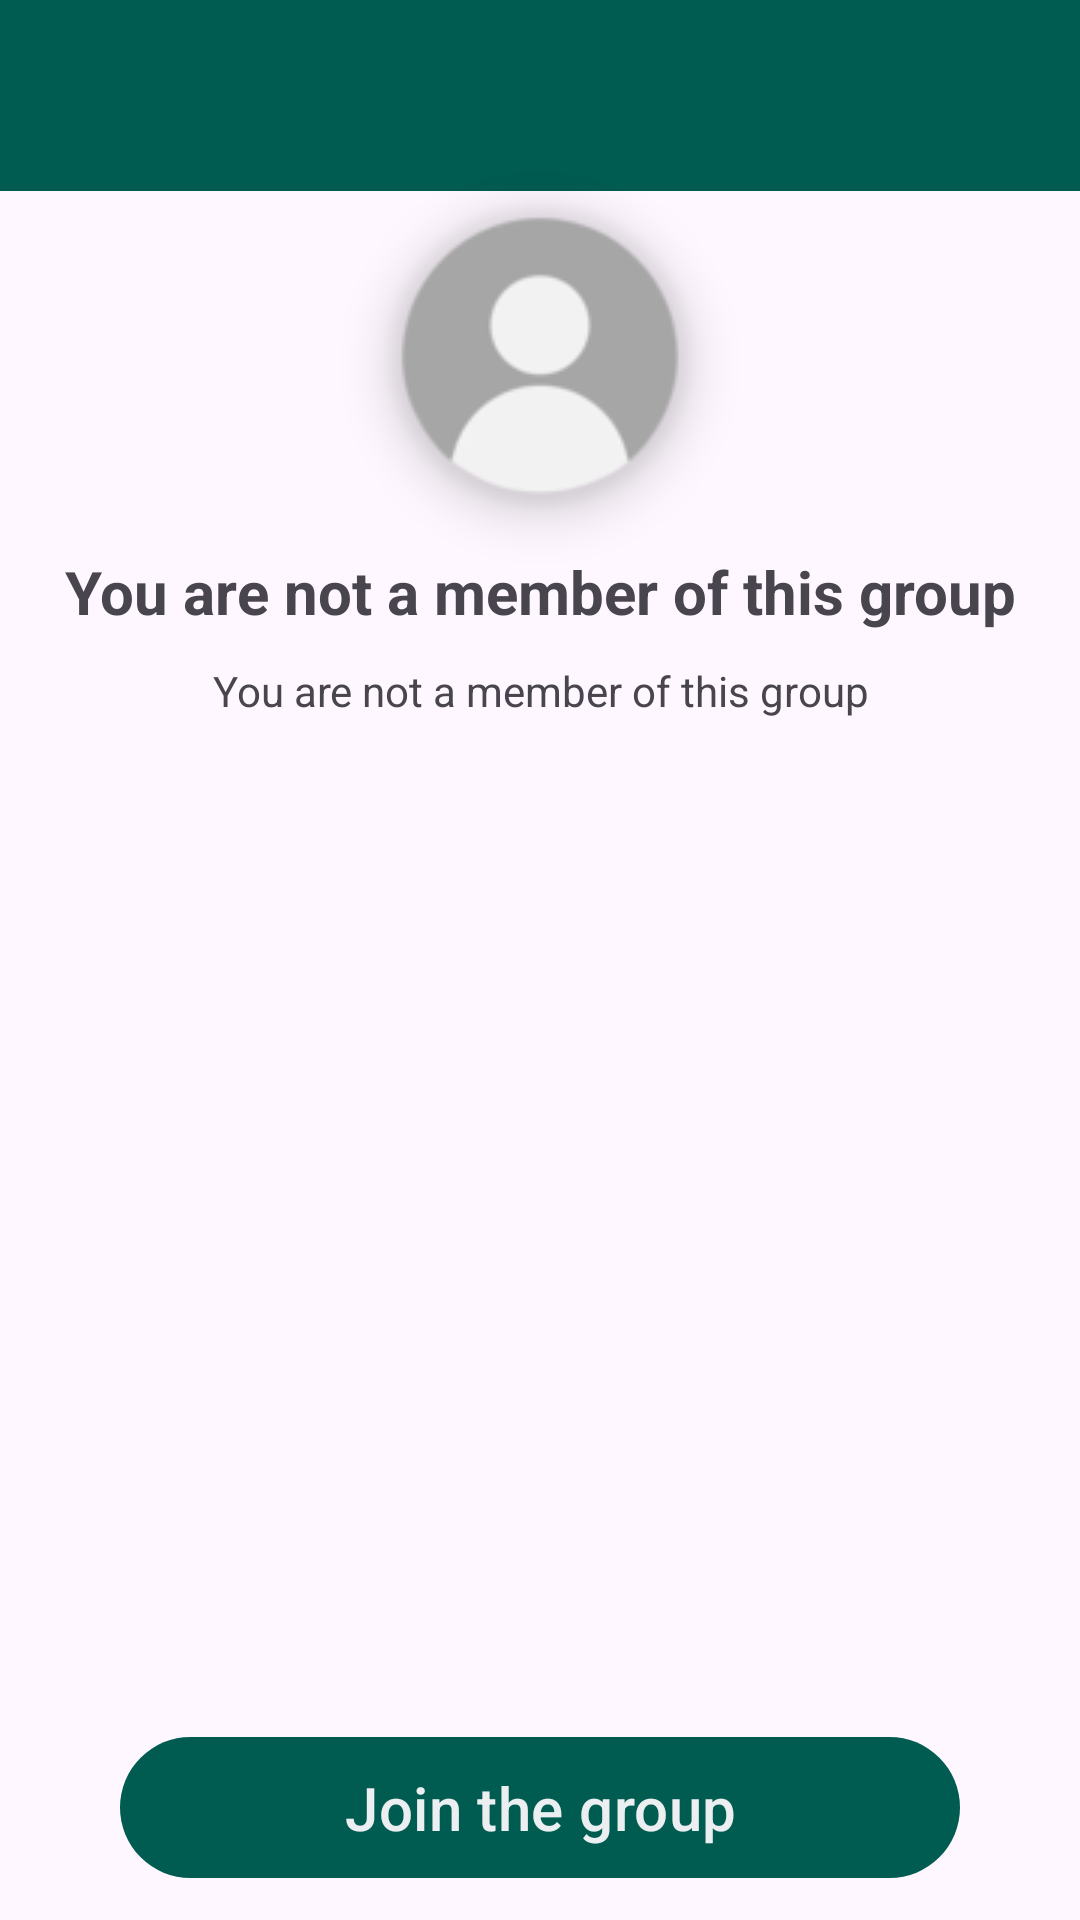

Icons on this 1080*1920 Android screen, each with its box as detection(x1, y1, x2, y2):
profile photo: detection(393, 214, 687, 506)
